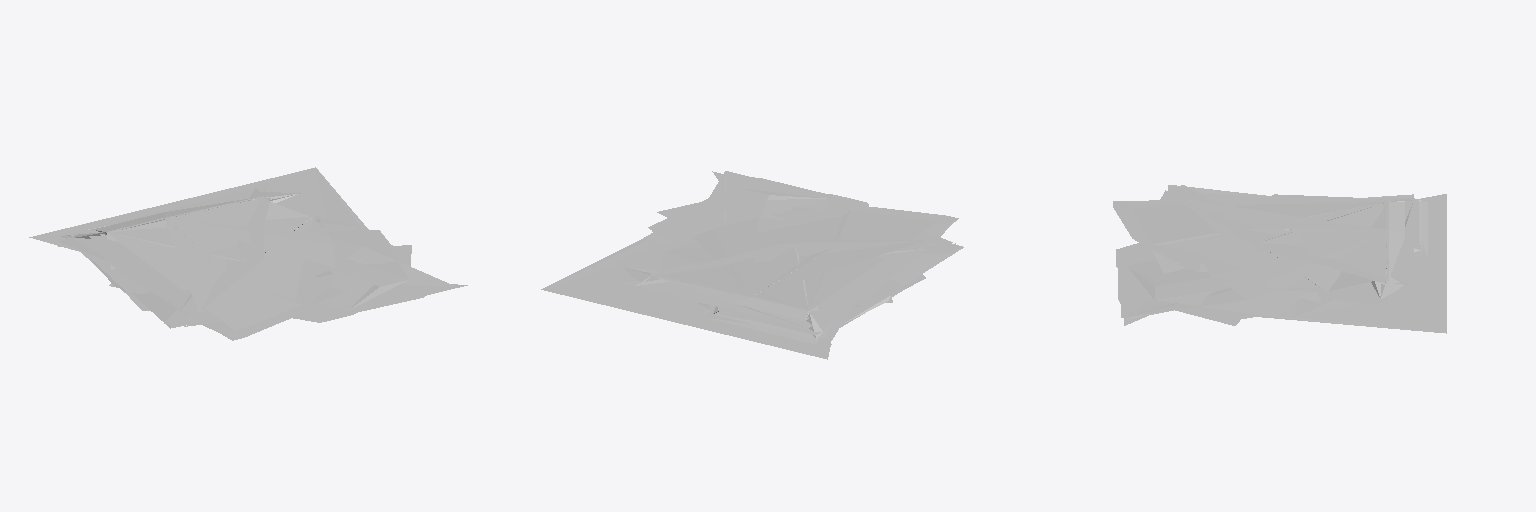
Rendered from testEnvironment.obj.
3 views of the same model, side by side, from view 1: azimuth 30°, elevation 25°; view 2: azimuth 150°, elevation 25°; view 3: azimuth 270°, elevation 25° (orthographic).
Bounding box in the file's own units: 119 × 6 × 120.